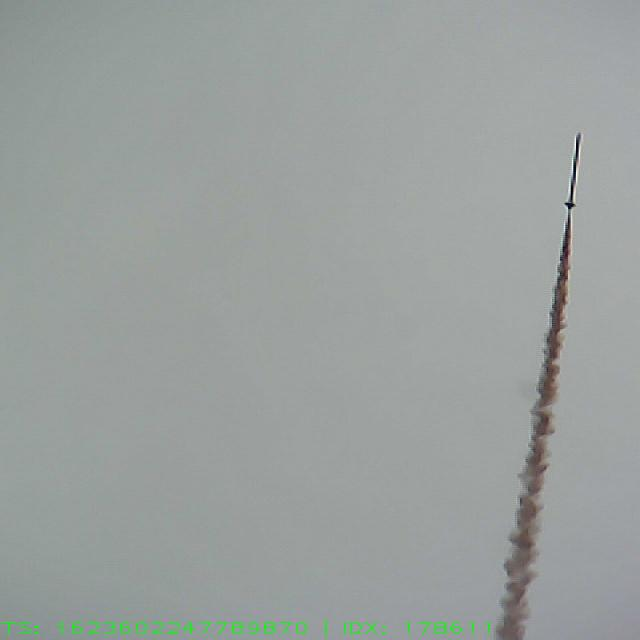Rocket: (562, 130, 583, 210)
